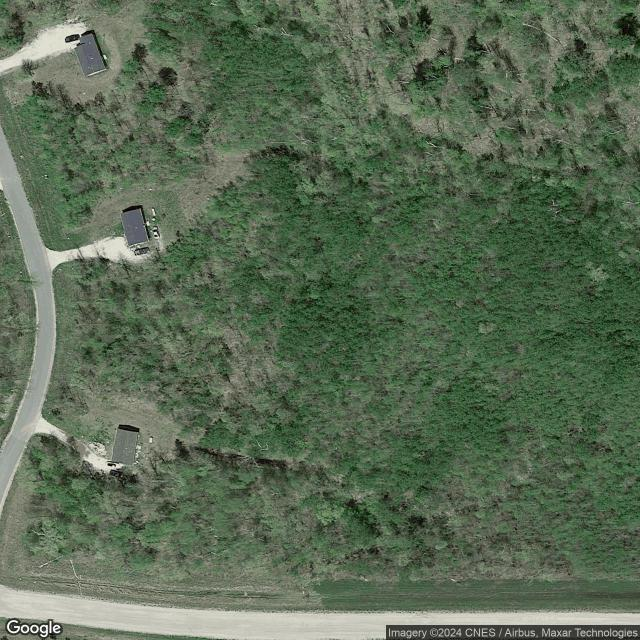Propane: (151, 206, 157, 216), (102, 53, 108, 61), (148, 435, 153, 444)
